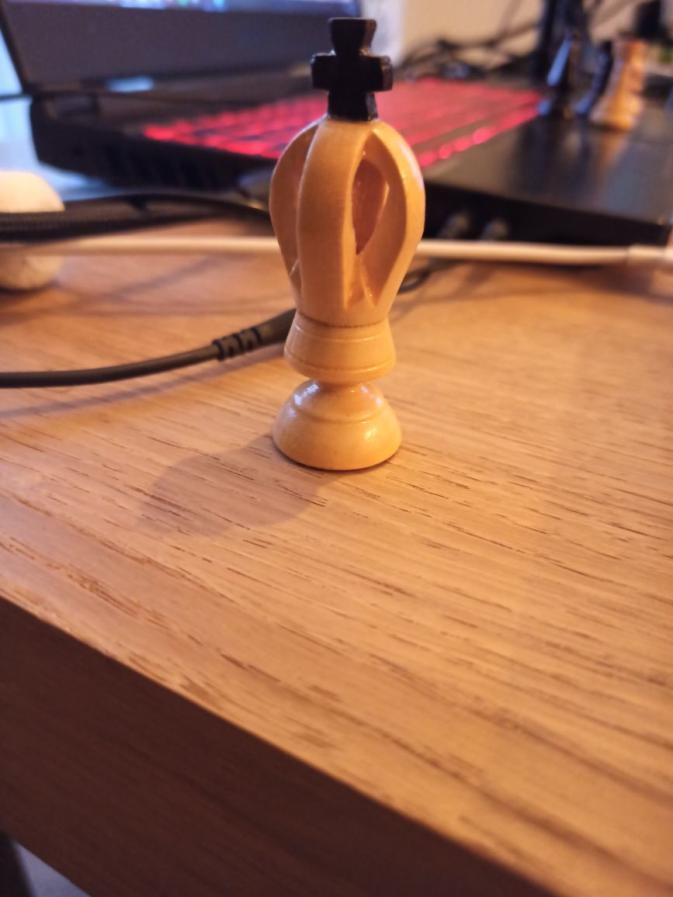wking: (263, 14, 428, 474)
